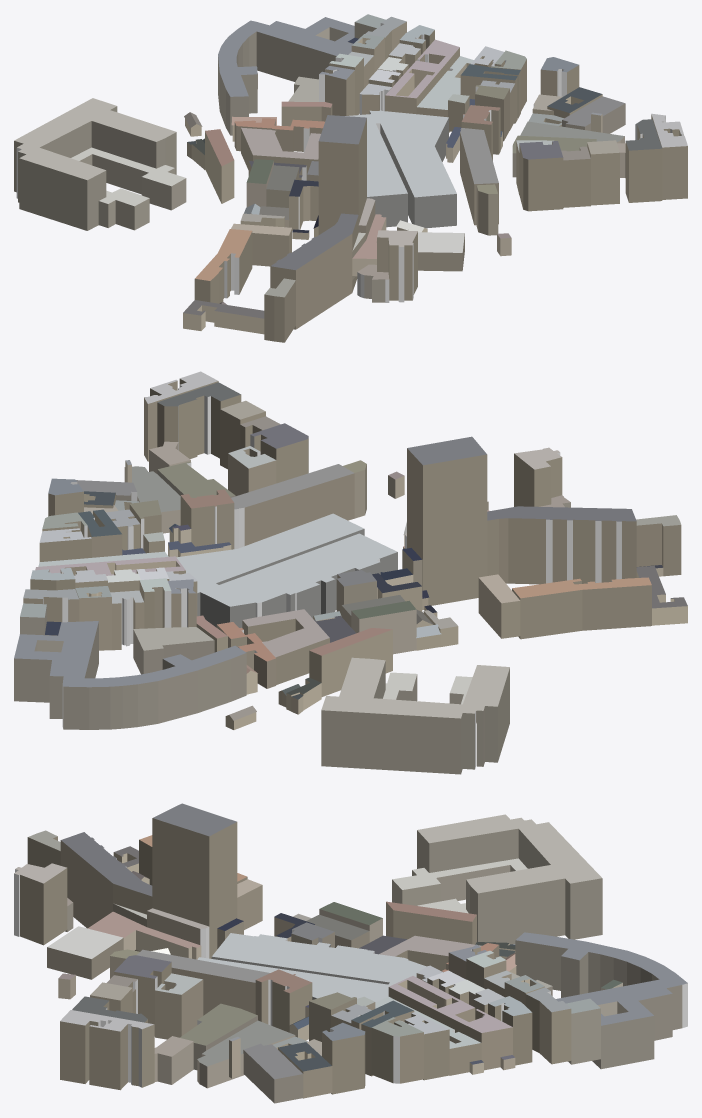
3 renders of one model, top to bottom at view 1: azimuth 30°, elevation 25°; view 2: azimuth 150°, elevation 25°; view 3: azimuth 270°, elevation 25°, orthographic. The views are drawn at different scales.
Parts seen in each view (by area): view 1: tuile; view 2: tuile; view 3: tuile.
Boxes of the visible parts, x1,y1,x2,y2 form: tuile: (14, 14, 687, 342); tuile: (14, 371, 687, 774); tuile: (14, 803, 687, 1103).
Bounding box in the file's own units: 284 × 72.77 × 292.
